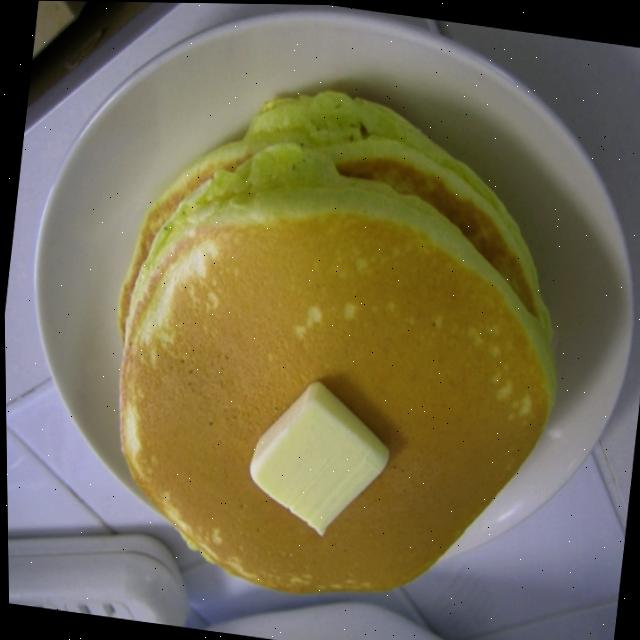蛋糕甜品: (19, 16, 633, 640)
